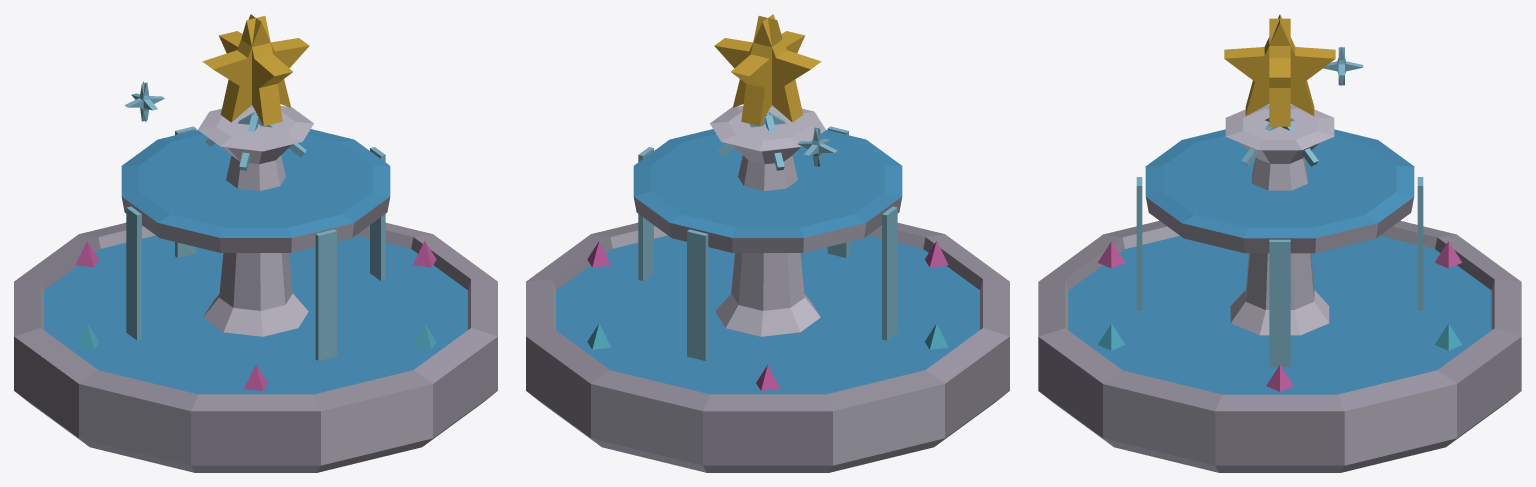
File: Decor_WizardTower_Fountain.fbx
3 renders of one model, left to right at view 1: azimuth 30°, elevation 25°; view 2: azimuth 150°, elevation 25°; view 3: azimuth 270°, elevation 25°, orthographic.
Visible parts, largest first — view 1: Fountain_Body; view 2: Fountain_Body; view 3: Fountain_Body.
Part boxes in pixels (x1,y1,x2,y2): Fountain_Body: [14, 14, 497, 472]; Fountain_Body: [526, 14, 1009, 472]; Fountain_Body: [1038, 14, 1521, 472].
Size of the model in its own units: 16 by 13.1 by 16.
